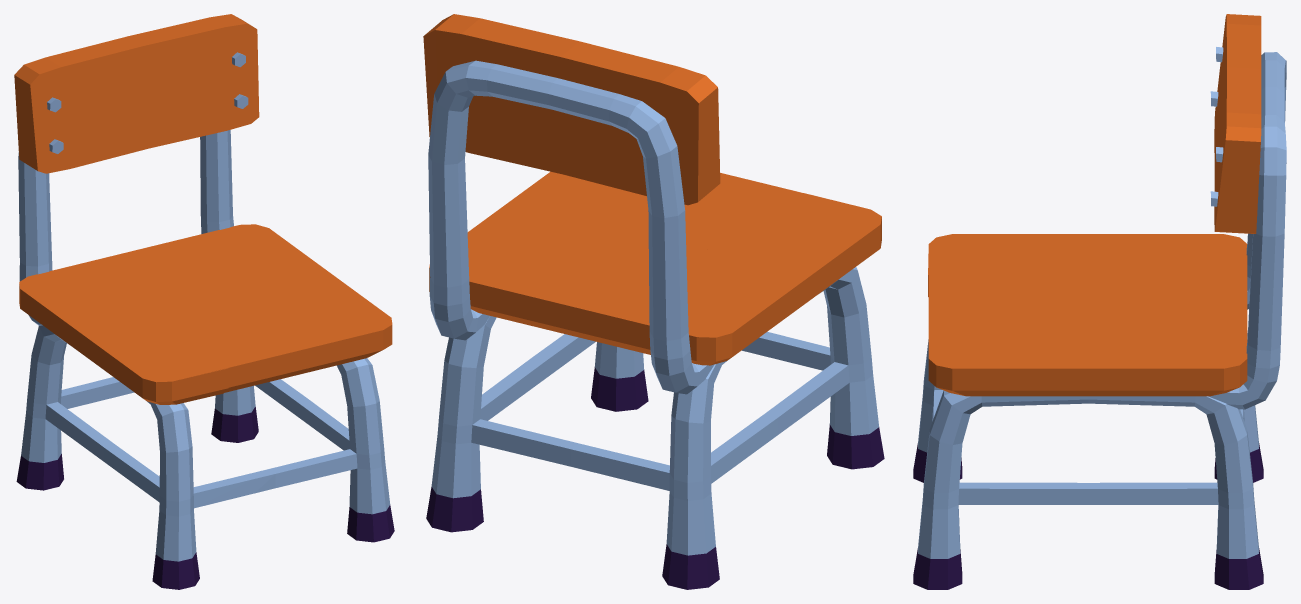
Rendered from Chair.fbx.
The picture shows the model from 3 angles, left to right: view 1: azimuth 30°, elevation 25°; view 2: azimuth 150°, elevation 25°; view 3: azimuth 270°, elevation 25°; orthographic projection. The views are drawn at different scales.
Visible parts, largest first — view 1: Chair, ChairPiece1, ChairPiece3, ChairPiece2; view 2: Chair, ChairPiece3, ChairPiece1, ChairPiece2; view 3: Chair, ChairPiece3, ChairPiece1, ChairPiece2.
Part boxes in pixels (x1=…): Chair: x1=14, y1=57, x2=385, y2=587; ChairPiece1: x1=14, y1=14, x2=259, y2=235; ChairPiece3: x1=107, y1=137, x2=394, y2=542; ChairPiece2: x1=19, y1=234, x2=253, y2=589; Chair: x1=423, y1=30, x2=884, y2=589; ChairPiece3: x1=429, y1=172, x2=801, y2=521; ChairPiece1: x1=424, y1=14, x2=719, y2=301; ChairPiece2: x1=494, y1=195, x2=884, y2=587; Chair: x1=915, y1=52, x2=1286, y2=589; ChairPiece3: x1=913, y1=262, x2=1274, y2=589; ChairPiece1: x1=1210, y1=14, x2=1277, y2=260; ChairPiece2: x1=913, y1=233, x2=1262, y2=482.
Size of the model in its own units: 705 by 1123 by 826.
